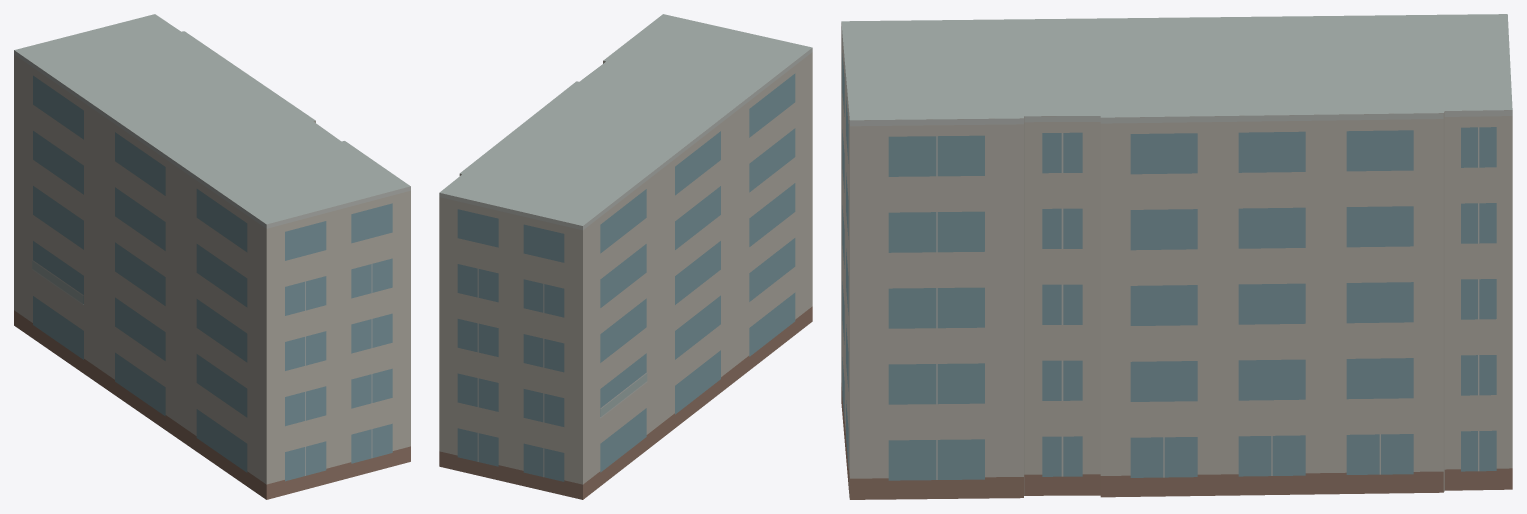
Rendered from survey-upis-32940641.glb.
3 views of the same model, side by side, from view 1: azimuth 30°, elevation 25°; view 2: azimuth 150°, elevation 25°; view 3: azimuth 270°, elevation 25° (orthographic). The views are drawn at different scales.
Parts seen in each view (by area): view 1: survey-upis-32940641.tmp; view 2: survey-upis-32940641.tmp; view 3: survey-upis-32940641.tmp.
Part boxes in pixels (x1,y1,x2,y2): survey-upis-32940641.tmp: (14, 14, 410, 499); survey-upis-32940641.tmp: (439, 14, 812, 499); survey-upis-32940641.tmp: (841, 14, 1512, 499).
Bounding box in the file's own units: 9.29 × 15.45 × 24.77.
